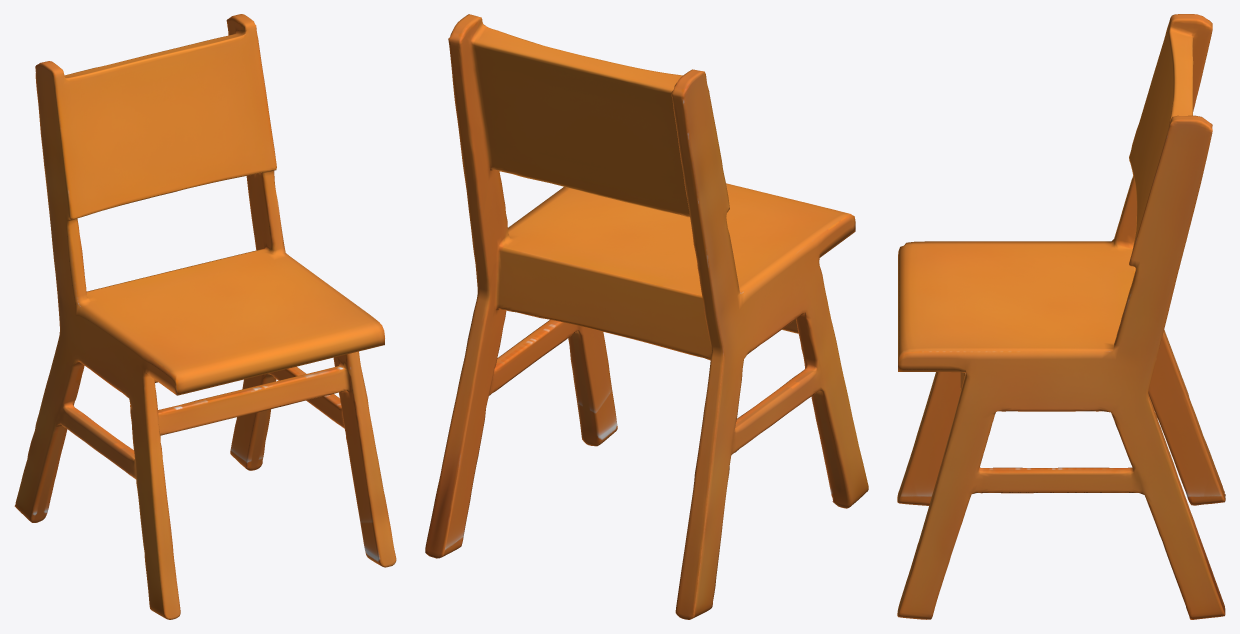
File: selected.glb
3 renders of one model, left to right at view 1: azimuth 30°, elevation 25°; view 2: azimuth 150°, elevation 25°; view 3: azimuth 270°, elevation 25°, orthographic. The views are drawn at different scales.
Visible parts, largest first — view 1: model; view 2: model; view 3: model.
Boxes of the visible parts, bbox=[...] form: model: bbox=[14, 14, 396, 619]; model: bbox=[425, 14, 868, 619]; model: bbox=[897, 14, 1225, 619].
Size of the model in its own units: 1.01 by 1.9 by 1.14.
Materials: 1 (1 with a texture image).
